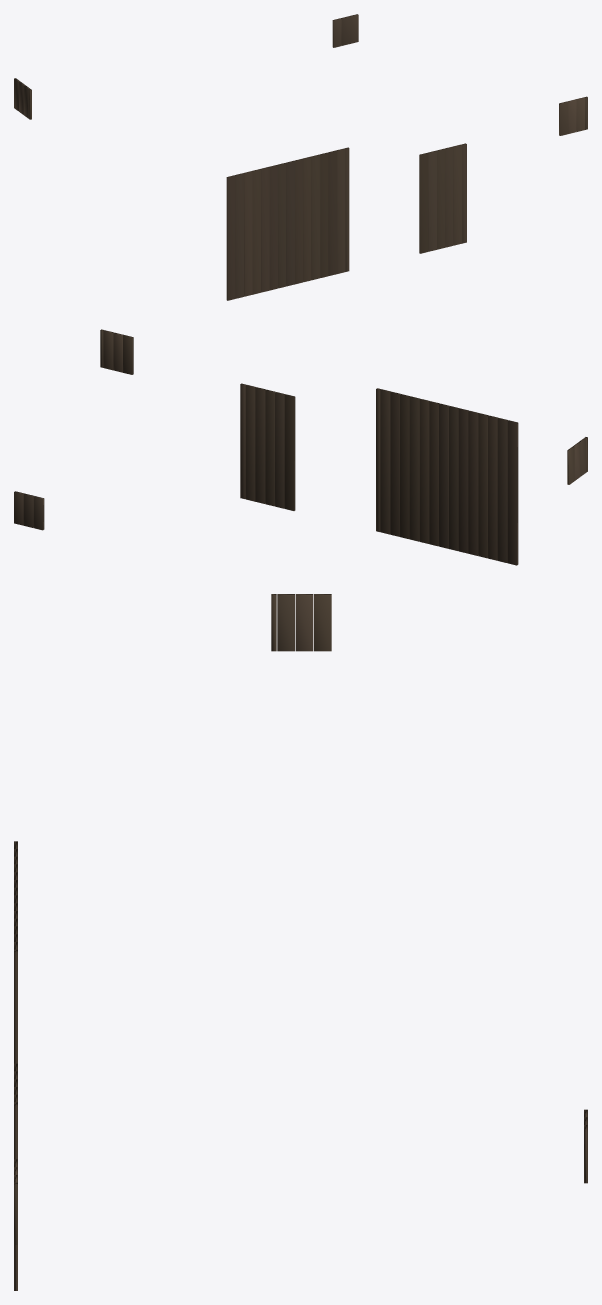
The model's file is SM_BarnWood_04.glb.
The picture shows the model from 3 angles, top to bottom: view 1: azimuth 30°, elevation 25°; view 2: azimuth 150°, elevation 25°; view 3: azimuth 270°, elevation 25°; orthographic projection. The views are drawn at different scales.
Parts seen in each view (by area): view 1: SM_BarnWood_04; view 2: SM_BarnWood_04; view 3: SM_BarnWood_04.
Boxes of the visible parts, x1,y1,x2,y2 form: SM_BarnWood_04: (14, 14, 587, 300); SM_BarnWood_04: (14, 329, 587, 565); SM_BarnWood_04: (14, 594, 587, 1290).
Size of the model in its own units: 10.41 by 3.9 by 5.64.
